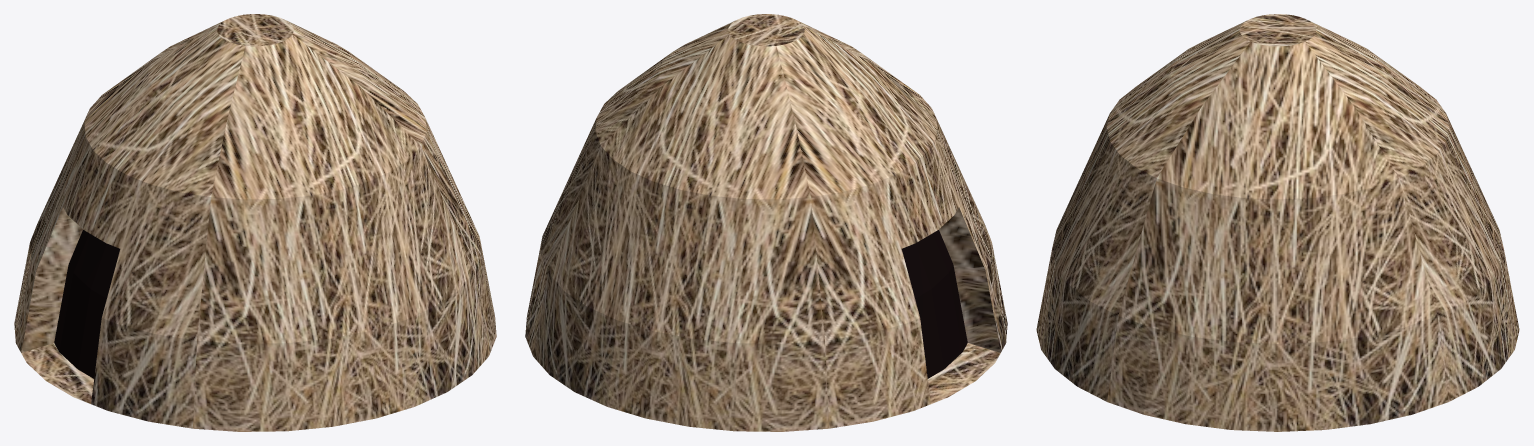
File: oca.fbx
3 views of the same model, side by side, from view 1: azimuth 30°, elevation 25°; view 2: azimuth 150°, elevation 25°; view 3: azimuth 270°, elevation 25° (orthographic).
Visible parts, largest first — view 1: Circle; view 2: Circle; view 3: Circle.
Part boxes in pixels (x1=…): Circle: x1=14, y1=14, x2=496, y2=431; Circle: x1=525, y1=14, x2=1007, y2=431; Circle: x1=1036, y1=14, x2=1519, y2=431.
Size of the model in its own units: 1900 by 1301 by 1900.
Materials: 1 (1 with a texture image).
